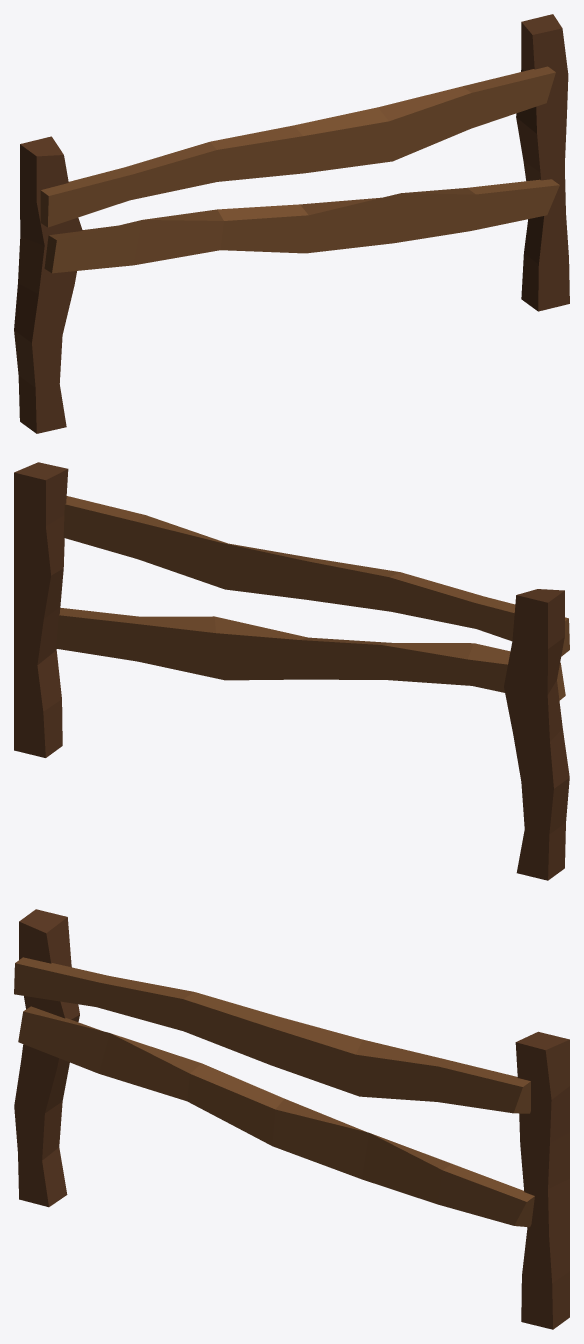
The model's file is pagar 2 .fbx.
3 renders of one model, top to bottom at view 1: azimuth 30°, elevation 25°; view 2: azimuth 150°, elevation 25°; view 3: azimuth 330°, elevation 25°, orthographic.
Visible parts, largest first — view 1: pager 1; view 2: pager 1; view 3: pager 1.
Part boxes in pixels (left/top/right/bottom): pager 1: left=14, top=14, right=569, bottom=433; pager 1: left=14, top=462, right=569, bottom=880; pager 1: left=14, top=909, right=569, bottom=1329.
Size of the model in its own units: 201 by 99.2 by 16.48.
